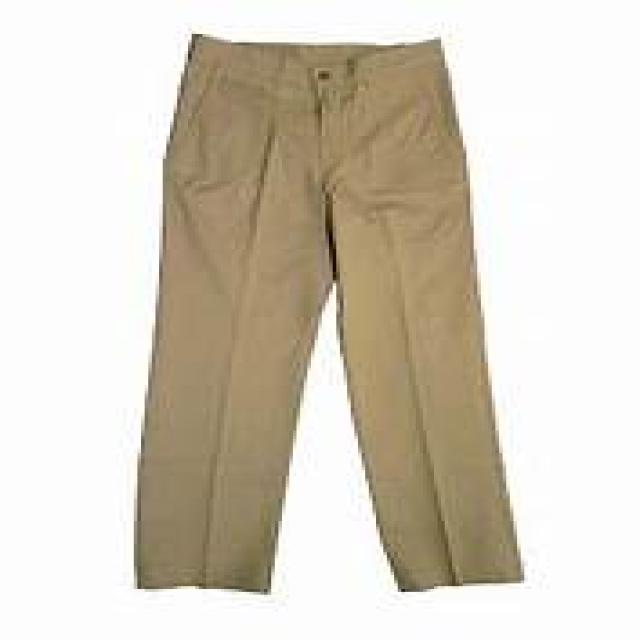long-pants: (131, 34, 524, 600)
